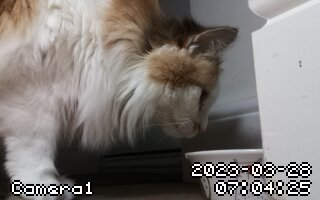clara: (5, 3, 241, 195)
